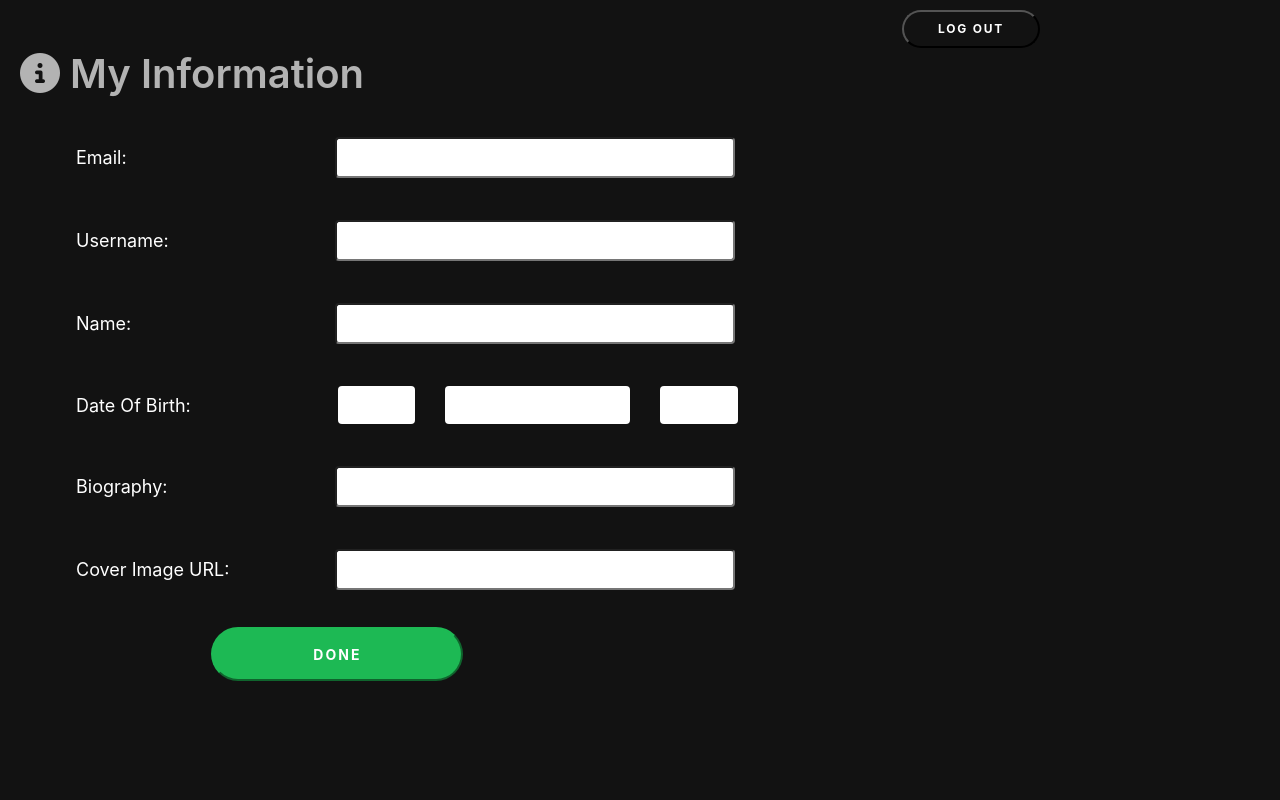
Edit Artist Information Render test › Should validate change in email input field
Type "aaa" into the field with id "email" at (535, 158), box [335,137,735,178]
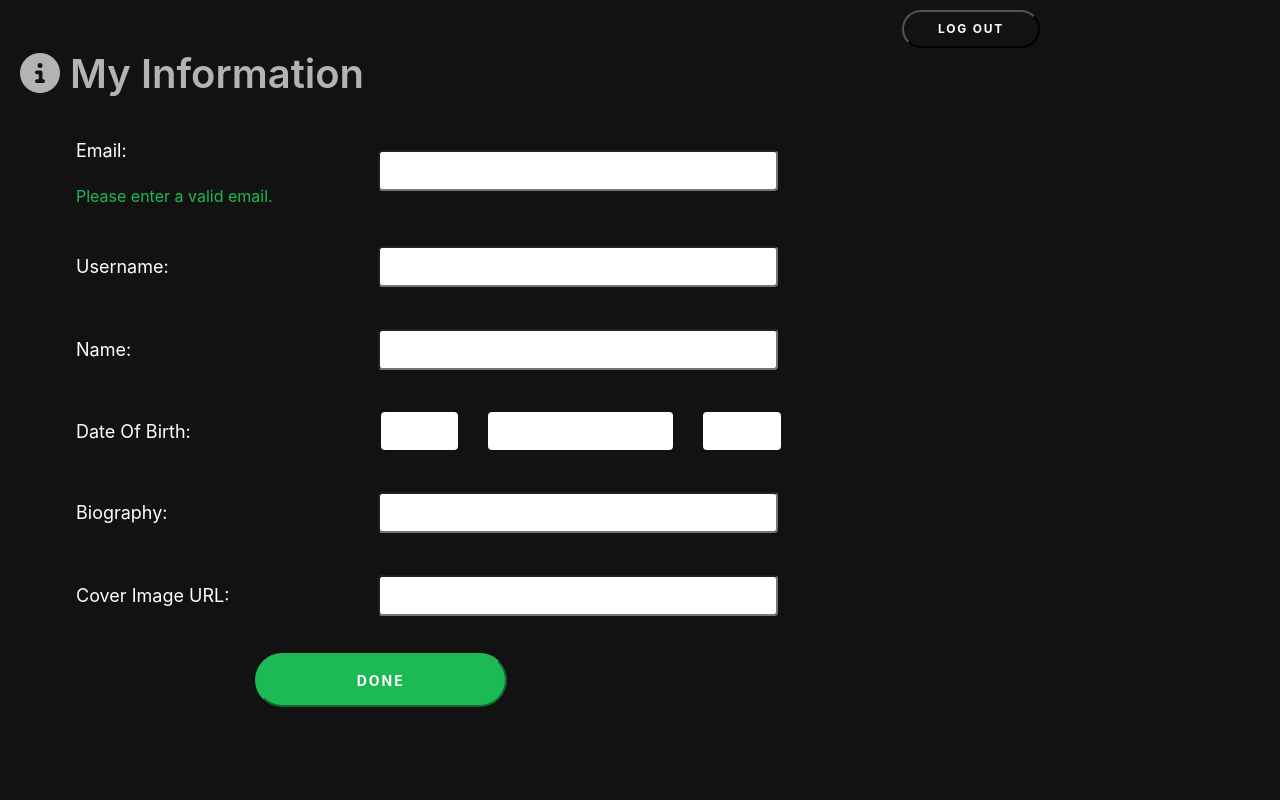
Now the text "Please enter a valid email." is shown, box [76,184,273,208]
